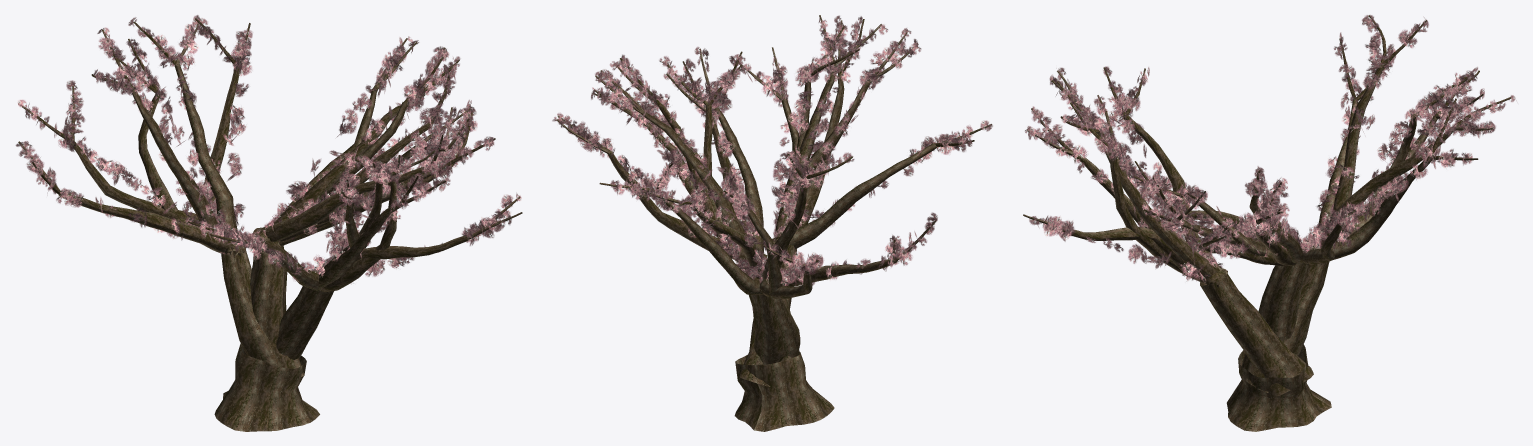
The model's file is blossom_4x_2.glb.
3 views of the same model, side by side, from view 1: azimuth 30°, elevation 25°; view 2: azimuth 150°, elevation 25°; view 3: azimuth 270°, elevation 25° (orthographic). The views are drawn at different scales.
Parts seen in each view (by area): view 1: blossom; view 2: blossom; view 3: blossom.
Part boxes in pixels (left/top/right/bottom): blossom: left=15, top=15, right=522, bottom=431; blossom: left=552, top=15, right=992, bottom=431; blossom: left=1023, top=15, right=1516, bottom=431.
Size of the model in its own units: 65.52 by 55.38 by 70.42.
2 materials, 2 textured.
